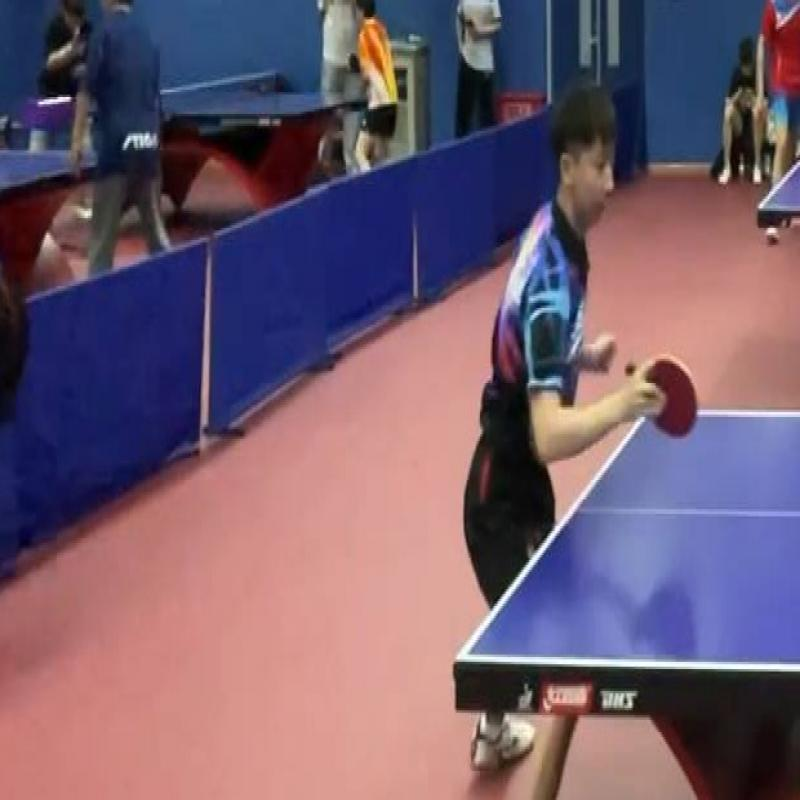bats: (620, 334, 706, 454)
